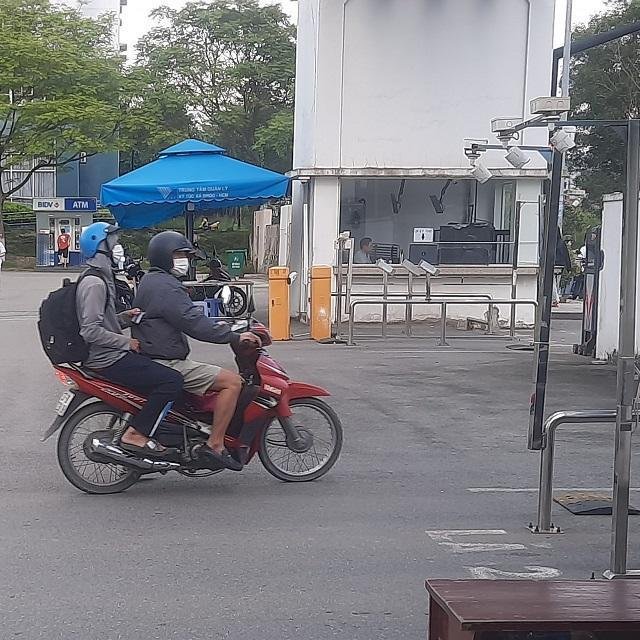Helmet: (79, 220, 125, 268), (147, 231, 193, 277)
